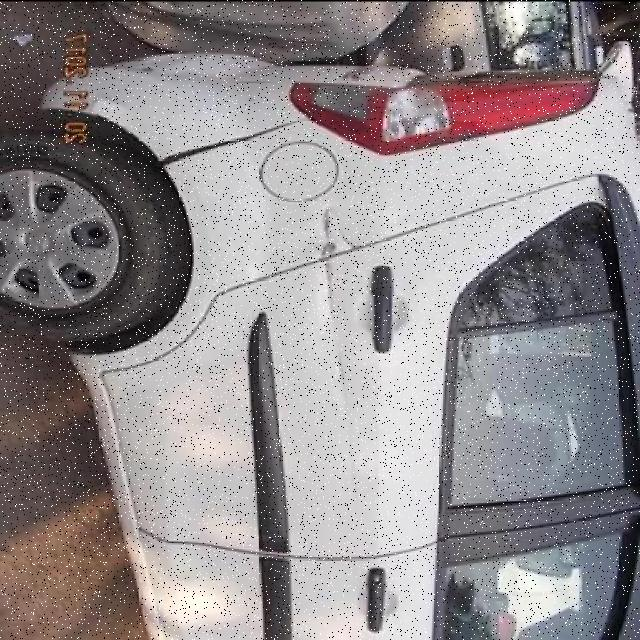damage: (316, 199, 358, 502), (158, 115, 304, 169)
